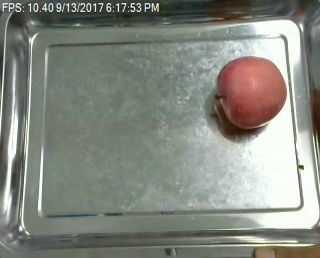Apple: (212, 57, 291, 130)
